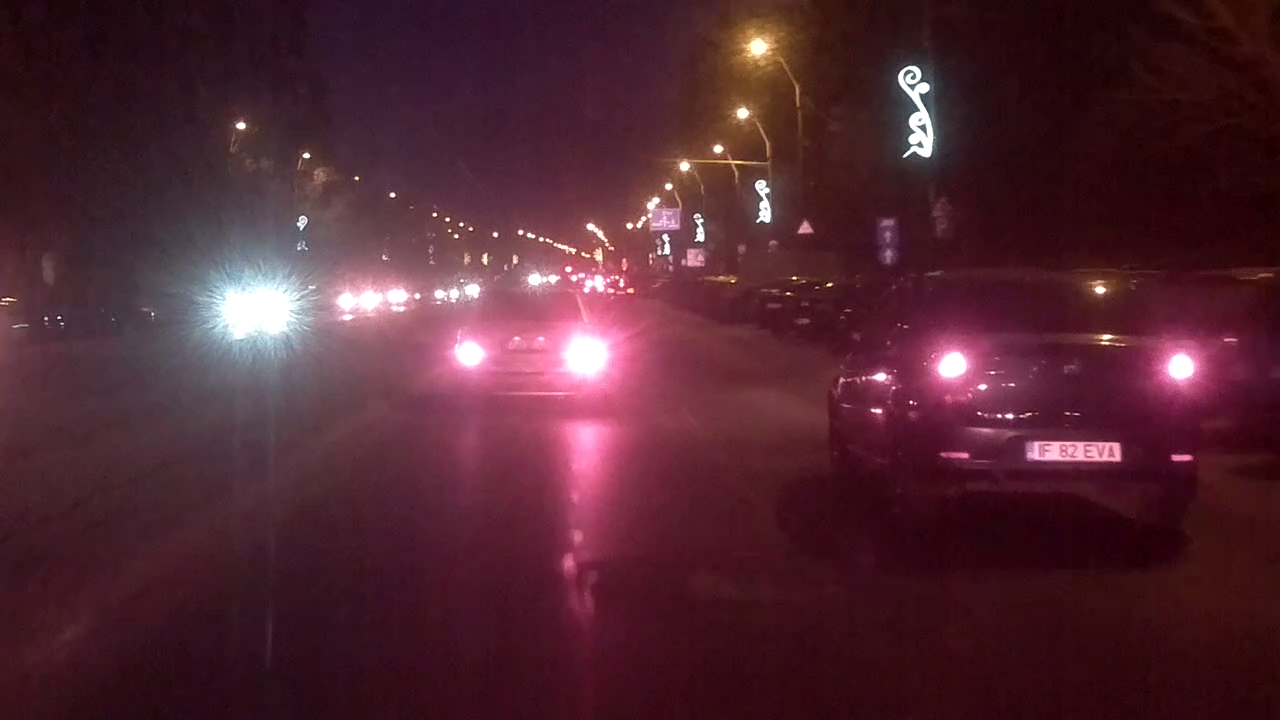license-plate: (1023, 440, 1125, 465)
